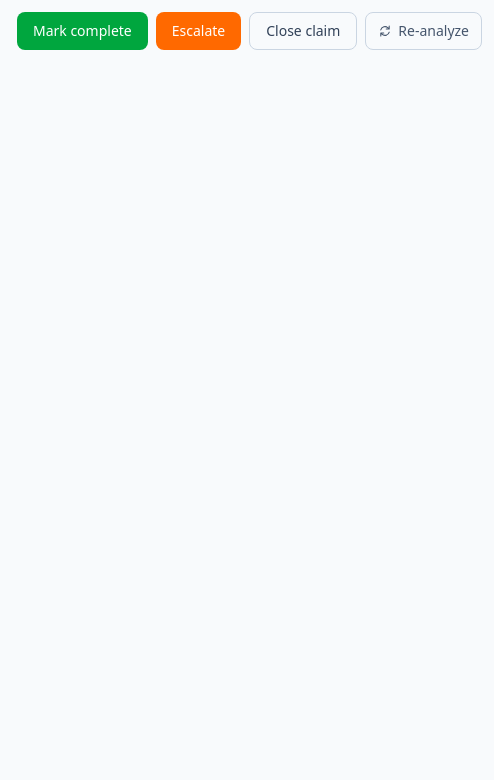
Scenario: la situación del caso › el detalle en en-US avisa un cambio que responde 409 con «Invalid state transition.»
The image size is (494, 780).
Click the button with test id "action-marcar-completo" at (82, 31), box [17, 12, 148, 50]
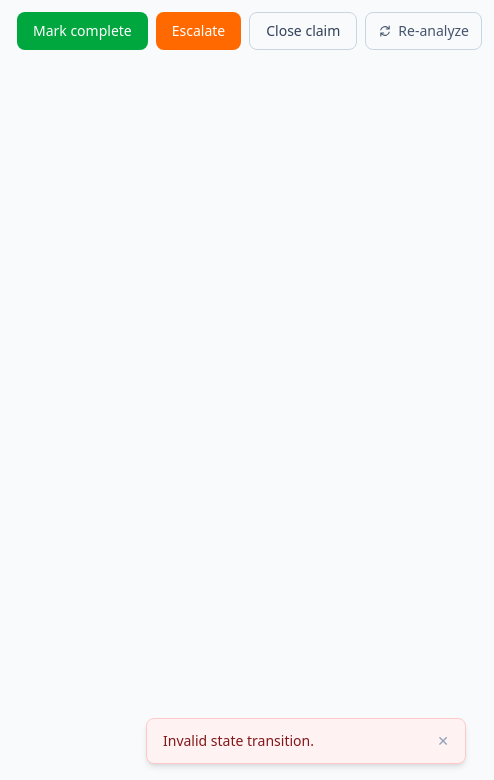
Expected: the text "Invalid state transition." is shown, [163, 731, 314, 751]
